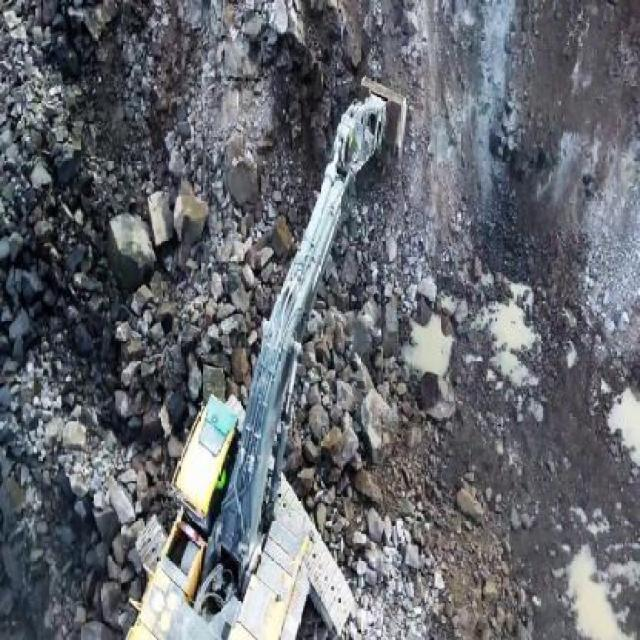excavator: (125, 75, 409, 639)
